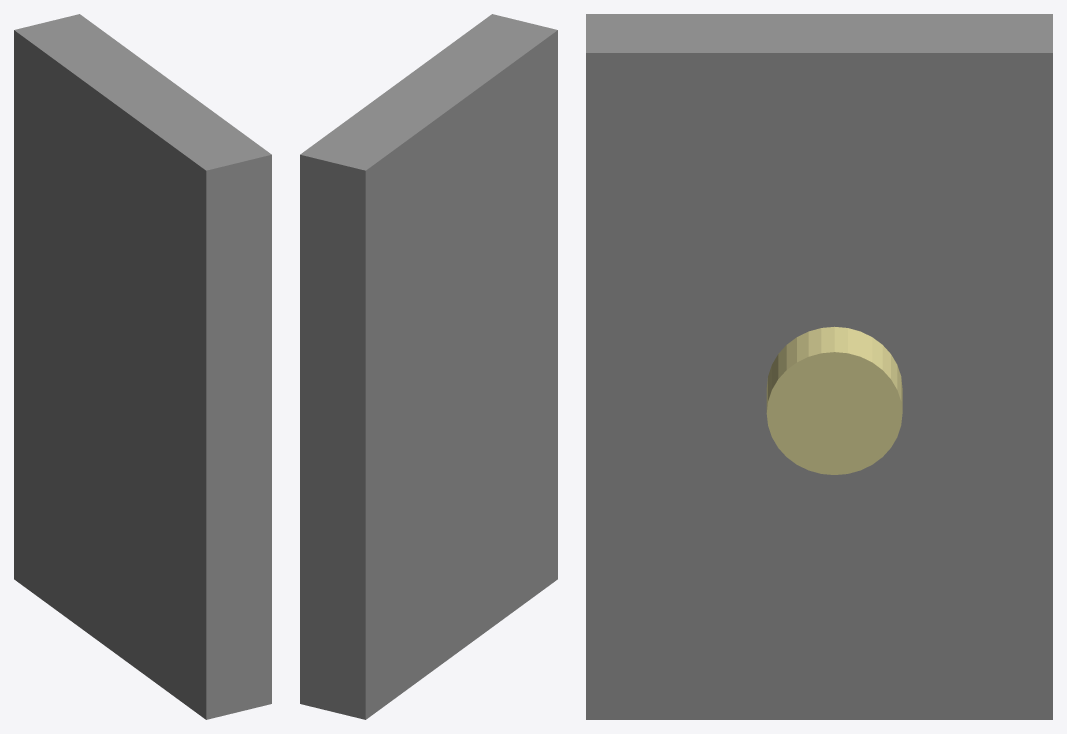
Rendered from Button.fbx.
3 renders of one model, left to right at view 1: azimuth 30°, elevation 25°; view 2: azimuth 150°, elevation 25°; view 3: azimuth 270°, elevation 25°, orthographic. The views are drawn at different scales.
Visible parts, largest first — view 1: Panel; view 2: Panel; view 3: Panel, Button.
Boxes of the visible parts, box(x1,y1,x2,y2) form: Panel: box(14, 14, 271, 719); Panel: box(300, 14, 557, 719); Panel: box(586, 14, 1052, 719); Button: box(766, 326, 902, 474).
Size of the model in its own units: 9.16 by 44.32 by 28.11.
